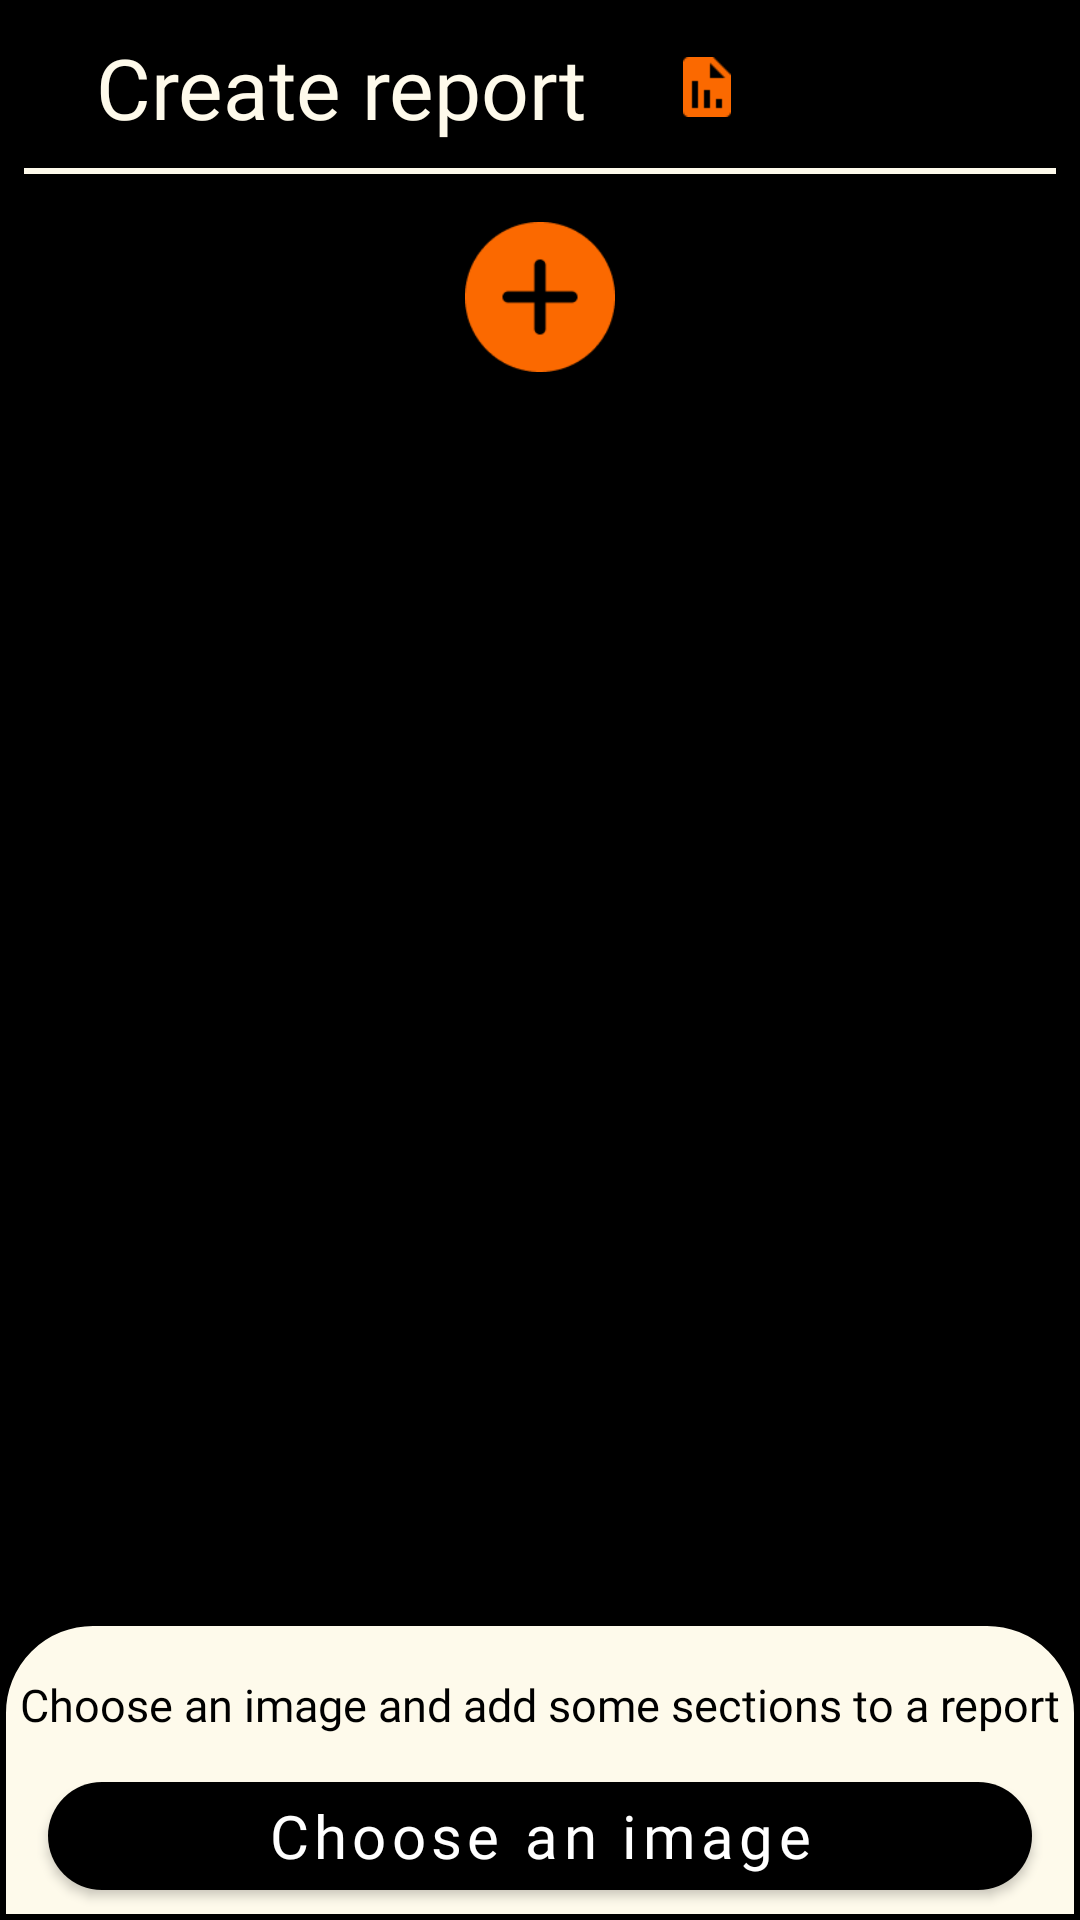

Icons on this 1080*1920 Android screen, each with its box as (x1, y1, x2, y2):
add report part: (465, 222, 615, 372)
